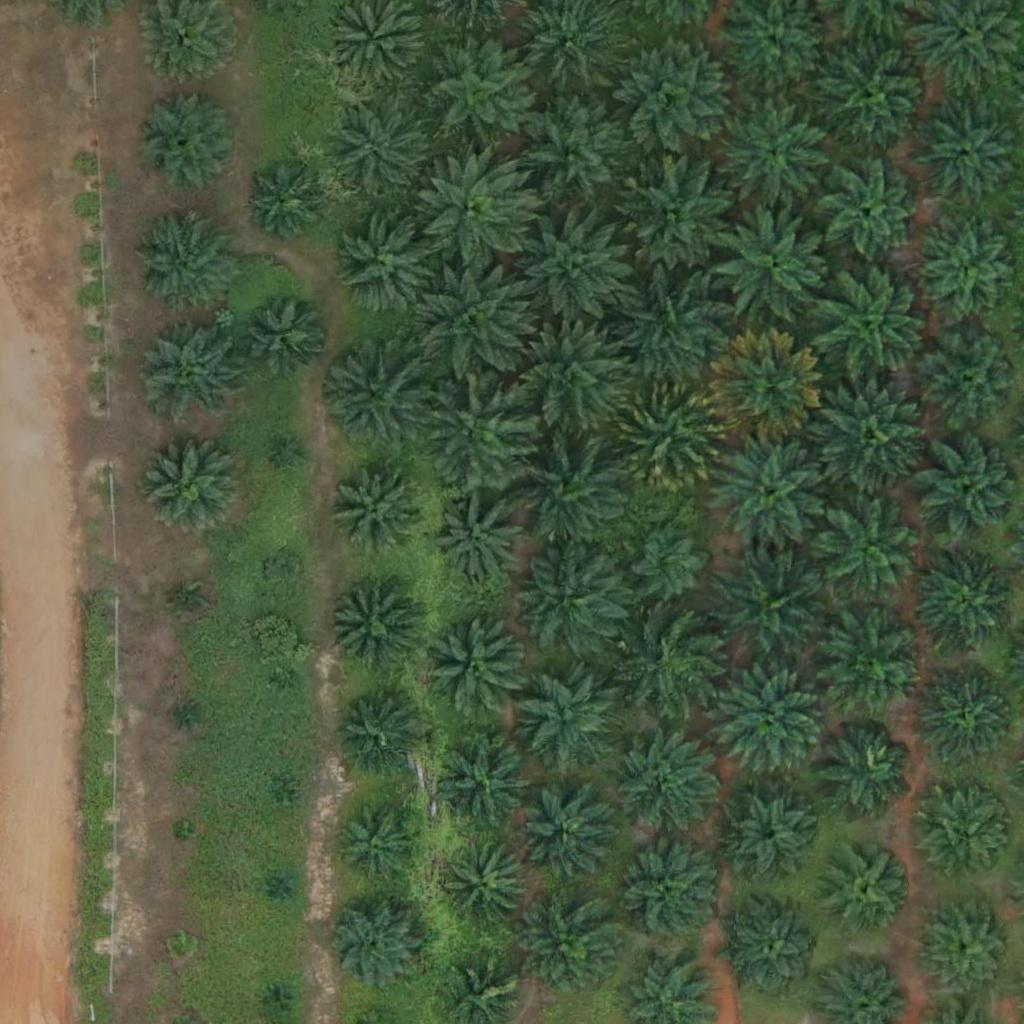Kelapa_Sawit: (712, 670, 825, 784), (319, 339, 432, 453), (519, 98, 632, 211), (619, 38, 732, 151), (622, 152, 735, 265), (621, 270, 734, 383), (814, 498, 927, 611), (710, 331, 823, 444), (612, 380, 725, 493), (712, 432, 825, 545), (709, 550, 822, 663), (419, 267, 531, 381), (513, 437, 625, 551), (517, 540, 629, 654), (422, 373, 534, 487), (419, 36, 531, 149), (418, 157, 530, 270), (521, 209, 633, 322), (719, 103, 831, 216), (716, 209, 828, 322), (819, 43, 931, 156), (820, 267, 932, 380), (813, 380, 925, 493), (510, 324, 622, 437), (319, 888, 431, 1001), (132, 211, 232, 312), (820, 163, 920, 264), (919, 329, 1019, 430), (917, 438, 1017, 539), (915, 554, 1015, 655), (917, 664, 1017, 765), (825, 608, 925, 709), (516, 669, 616, 770), (425, 618, 525, 719), (433, 730, 533, 831), (140, 322, 240, 423), (138, 430, 238, 531), (520, 897, 620, 998), (614, 842, 714, 943), (137, 92, 237, 192), (335, 104, 435, 204), (337, 217, 437, 317), (814, 720, 914, 820), (621, 613, 721, 713), (614, 734, 714, 834), (725, 901, 825, 1001), (919, 898, 1019, 998), (337, 799, 425, 888), (722, 793, 810, 881), (334, 691, 422, 779), (443, 843, 531, 931), (925, 227, 1012, 315), (922, 794, 1009, 882), (523, 795, 610, 883), (435, 496, 522, 584), (335, 463, 422, 551), (328, 585, 415, 673), (241, 292, 328, 380), (825, 844, 912, 932), (248, 164, 323, 240), (630, 524, 705, 600), (266, 555, 304, 593), (279, 440, 304, 465), (275, 670, 300, 695), (269, 786, 294, 811), (175, 590, 200, 615), (175, 703, 200, 728), (171, 821, 196, 846), (167, 933, 192, 958), (270, 875, 295, 900), (263, 985, 288, 1010)
